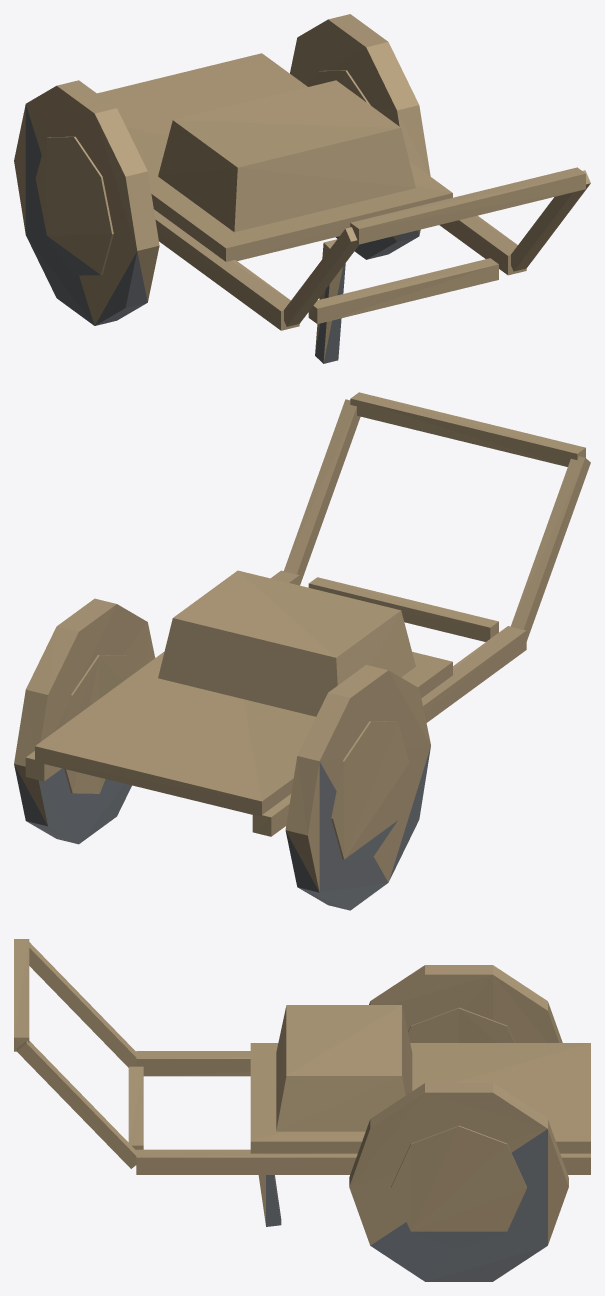
Rendered from hand-cart-00.glb.
3 views of the same model, one above another, from view 1: azimuth 30°, elevation 25°; view 2: azimuth 150°, elevation 25°; view 3: azimuth 270°, elevation 25° (orthographic). The views are drawn at different scales.
Visible parts, largest first — view 1: hand_cart_00; view 2: hand_cart_00; view 3: hand_cart_00.
Boxes of the visible parts, bbox=[...] form: hand_cart_00: bbox=[14, 14, 590, 363]; hand_cart_00: bbox=[14, 392, 590, 910]; hand_cart_00: bbox=[14, 939, 590, 1281].
Size of the model in its own units: 0.8007 by 0.6803 by 1.51.
